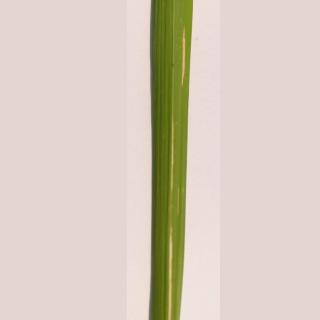Hawar-Daun: (160, 217, 182, 320), (161, 108, 186, 195), (174, 24, 193, 90)
